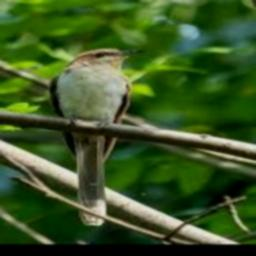Cuckoo: (49, 48, 148, 223)
